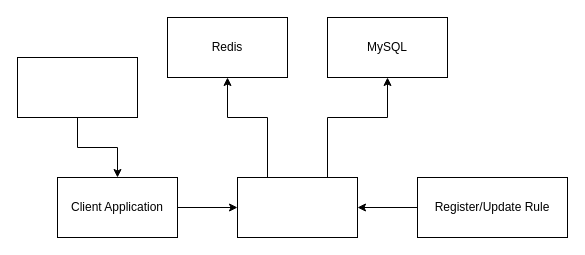
This 585x255 diagram has some shape labels left out. The centre of each missing label's shape, as x and y in pixels:
"Kill Switch Service" goes at pixel 297 207.
"Scheduler/Poller (Callback)" goes at pixel 77 87.
